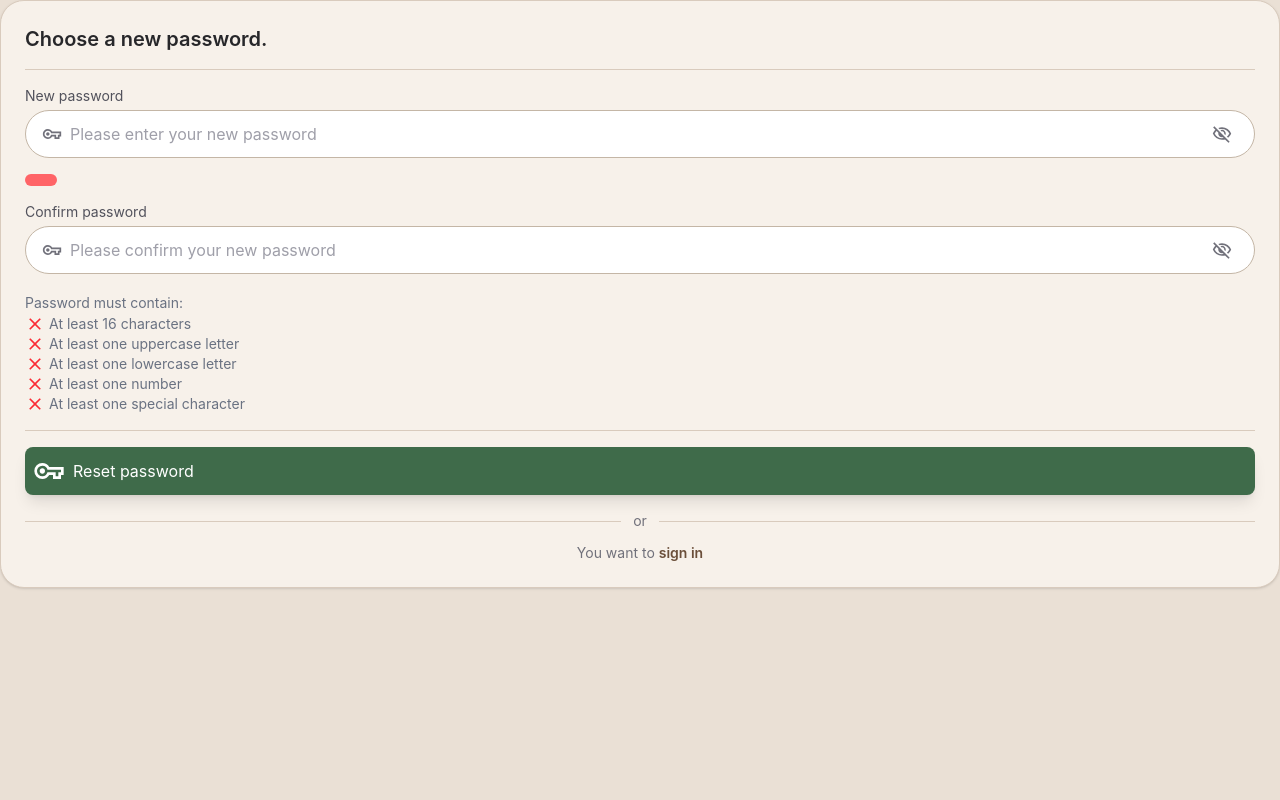
Test: Reset password form › sends the token and the new password only after both fields agree
Type "Superextrasecurepassword1!" into the password field labelled "New password".
click(634, 134); type("Superextrasecurepassword1!")  # box [70,122,1198,146]
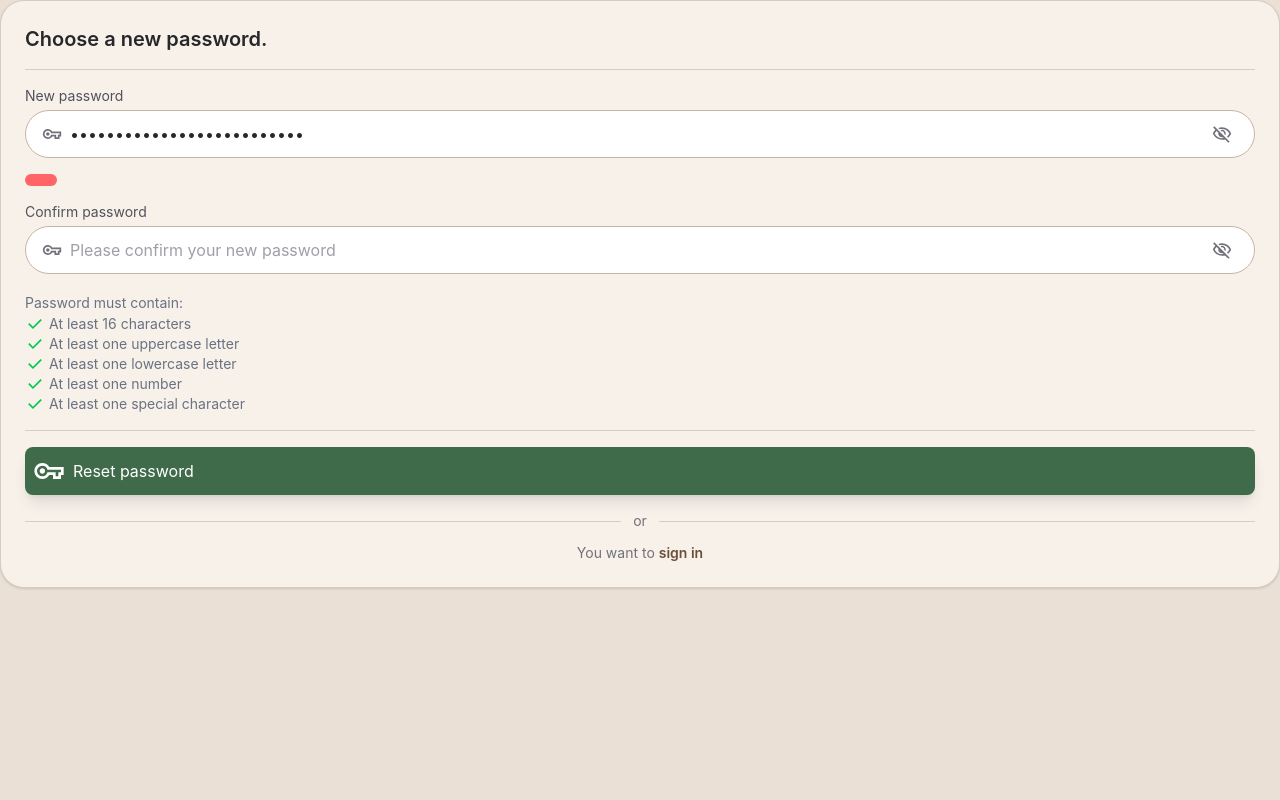
Type "Superextrasecurepassword1!" into the password field labelled "Confirm password".
click(634, 250); type("Superextrasecurepassword1!")  # box [70,238,1198,262]
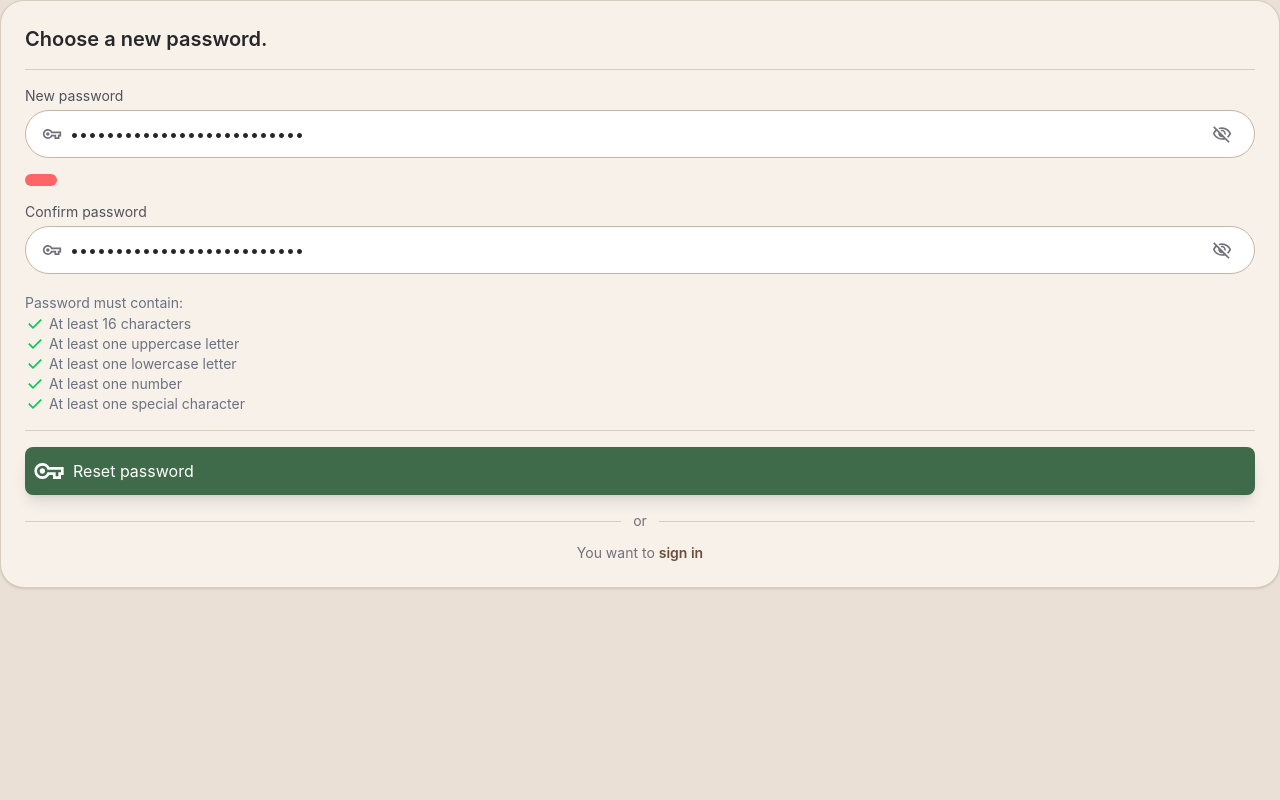
Click the button "Reset password".
click(49, 471)  # box [25,447,1255,495]
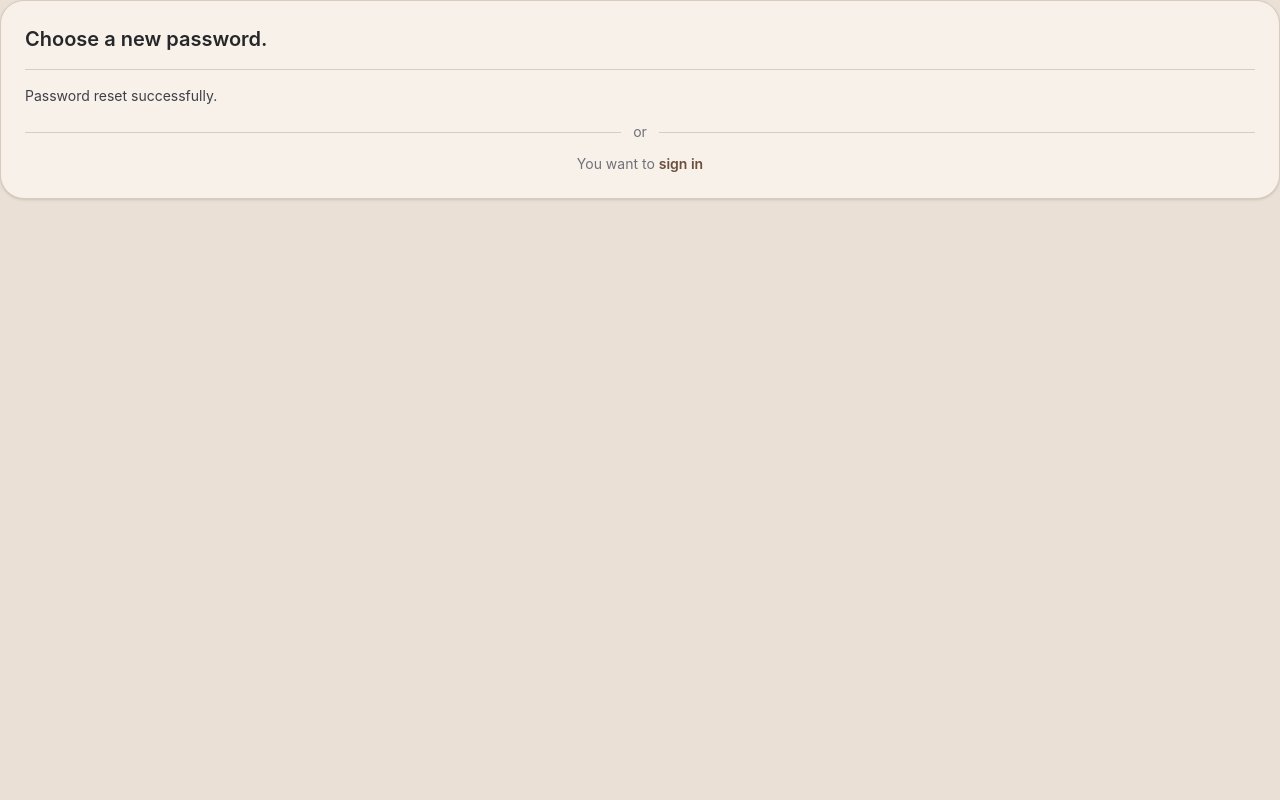
Now the text "Password reset successfully." is shown, box [25,87,217,104]
